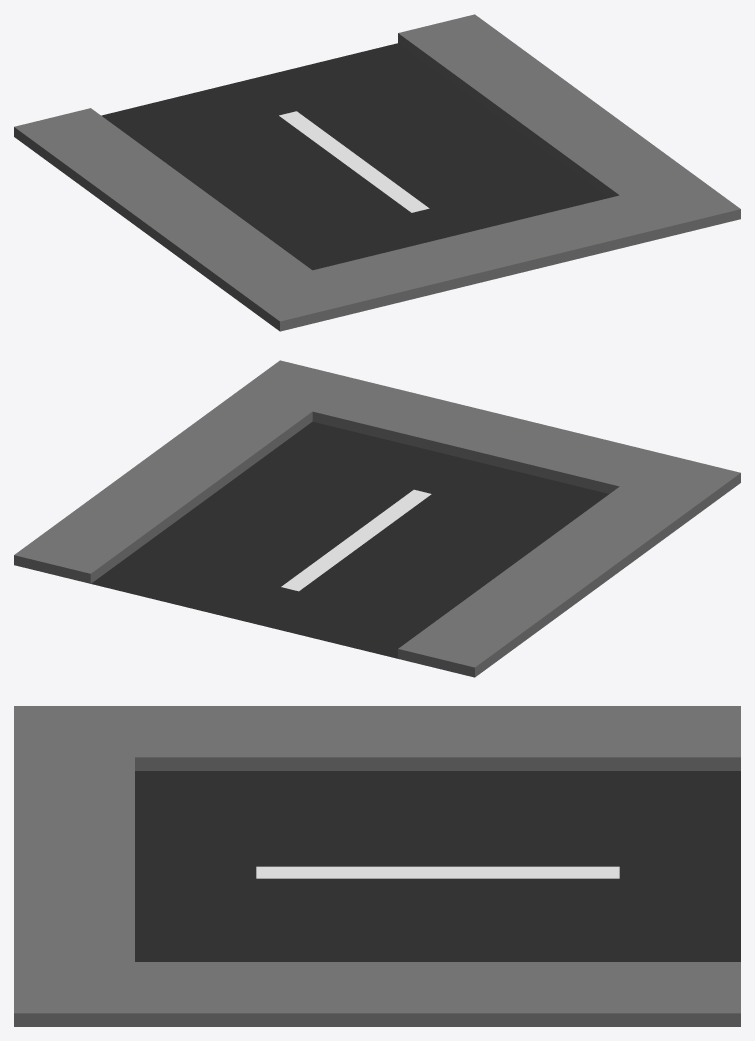
Rendered from RoadEnd.fbx.
3 renders of one model, top to bottom at view 1: azimuth 30°, elevation 25°; view 2: azimuth 150°, elevation 25°; view 3: azimuth 270°, elevation 25°, orthographic. The views are drawn at different scales.
Parts seen in each view (by area): view 1: RoadEnd; view 2: RoadEnd; view 3: RoadEnd.
Boxes of the visible parts, box(x1,y1,x2,y2) form: RoadEnd: box(14, 14, 740, 331); RoadEnd: box(14, 360, 740, 677); RoadEnd: box(14, 706, 740, 1026).
Size of the model in its own units: 24 by 0.5 by 24.
Materials: 1 (1 with a texture image).
